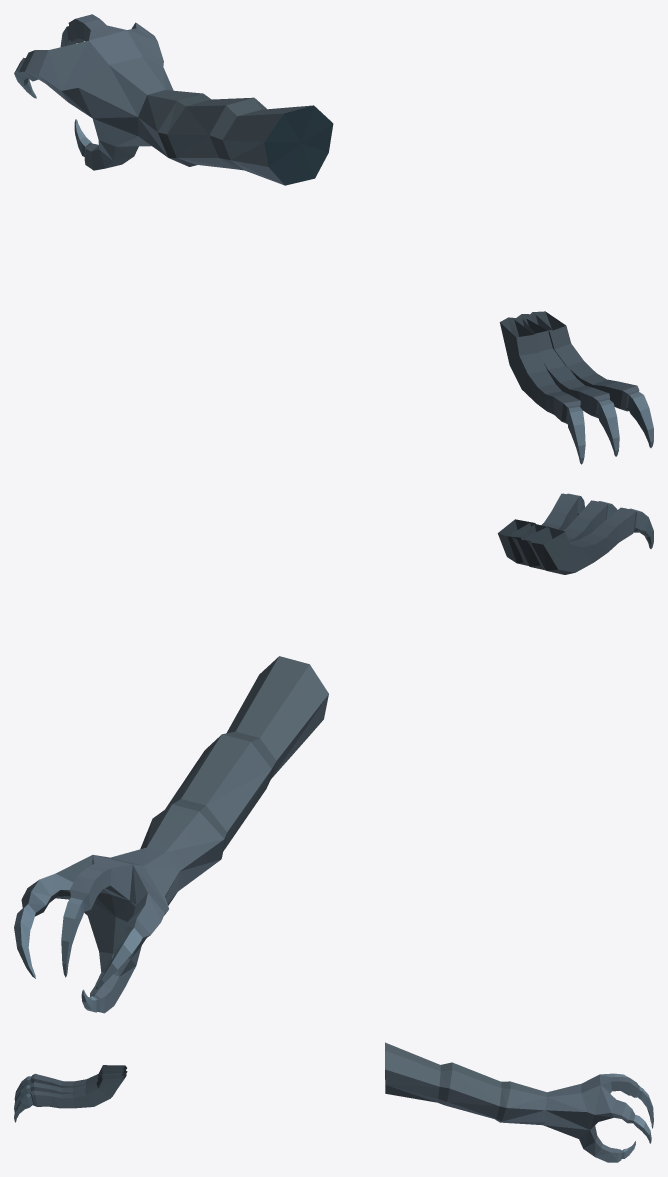
File: repeatingCrossbowDragonHandle.glb
3 views of the same model, one above another, from view 1: azimuth 30°, elevation 25°; view 2: azimuth 150°, elevation 25°; view 3: azimuth 270°, elevation 25° (orthographic). The views are drawn at different scales.
Parts seen in each view (by area): view 1: repeatingCrossbowDragonHandle; view 2: repeatingCrossbowDragonHandle; view 3: repeatingCrossbowDragonHandle.
Part boxes in pixels (x1,y1,x2,y2): repeatingCrossbowDragonHandle: [14, 14, 653, 464]; repeatingCrossbowDragonHandle: [14, 493, 653, 1013]; repeatingCrossbowDragonHandle: [14, 1042, 653, 1162].
Size of the model in its own units: 0.1367 by 0.1992 by 0.9966.
